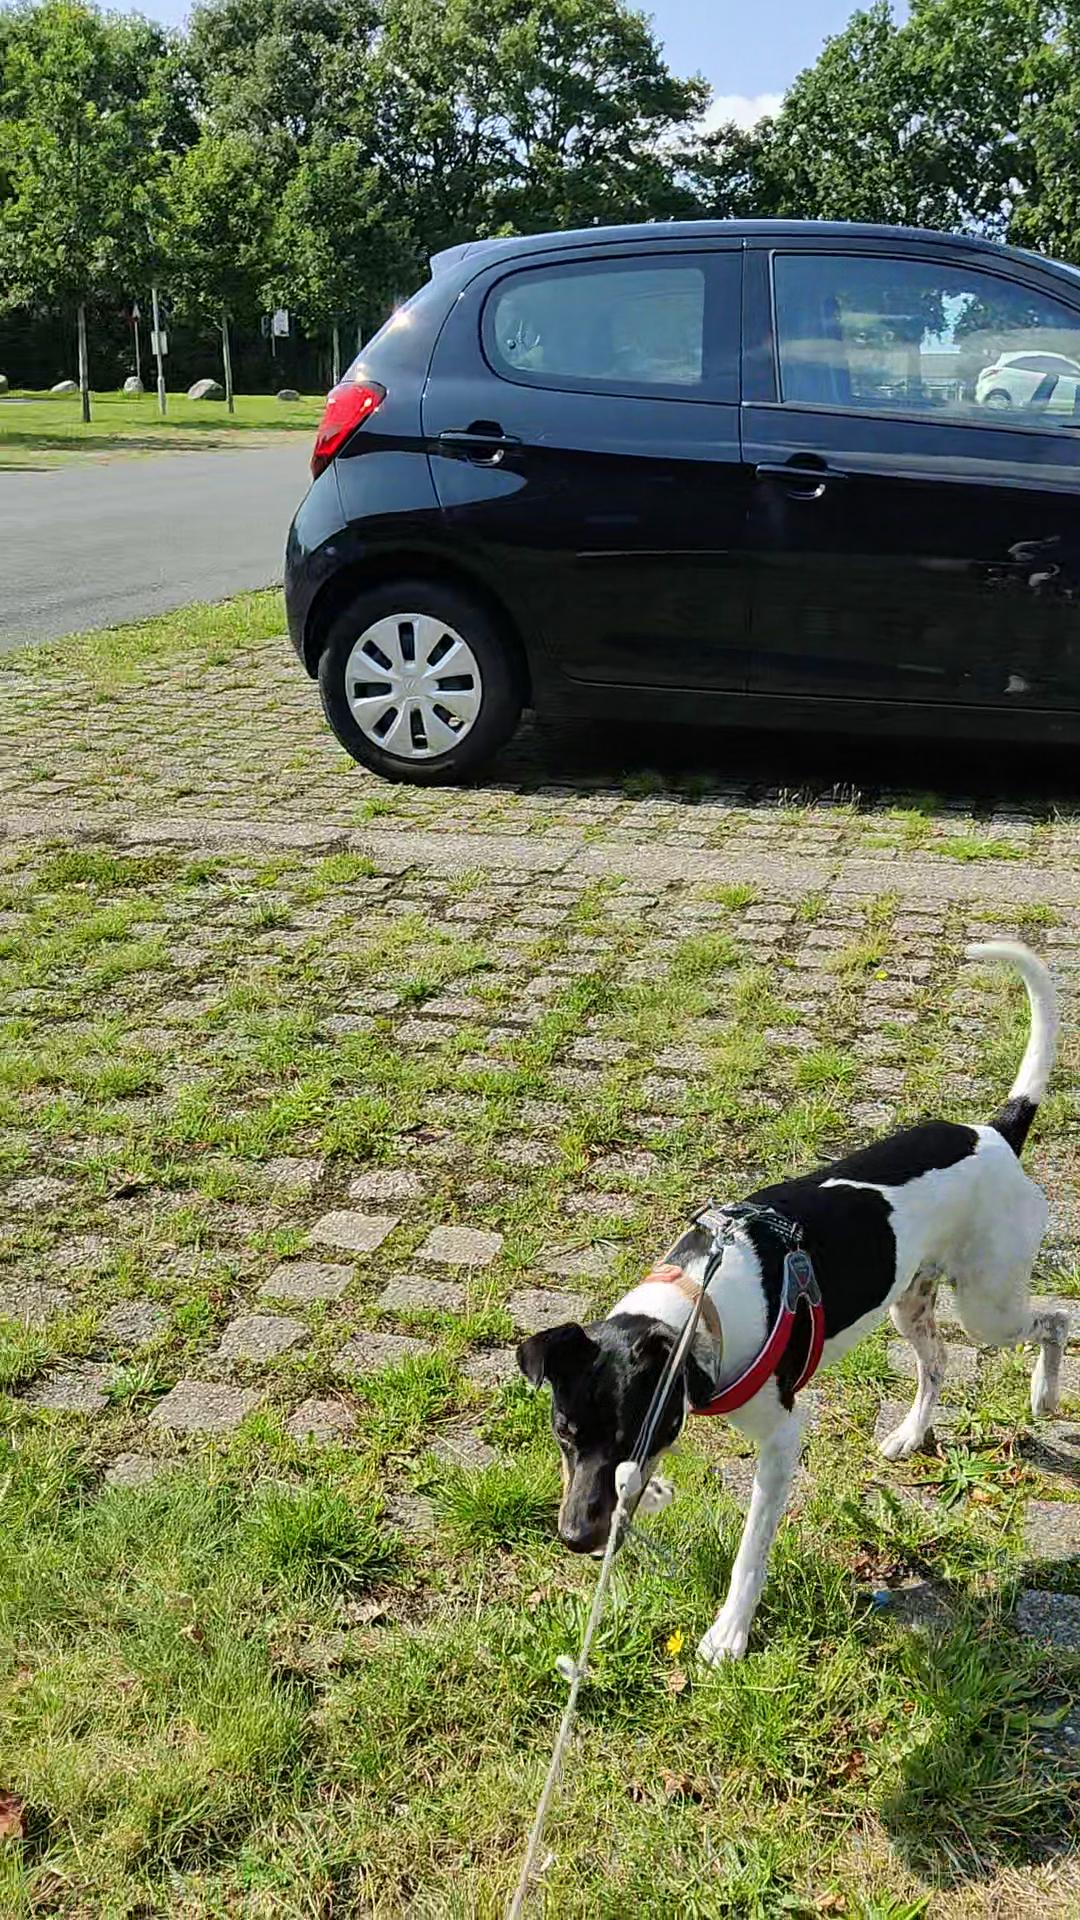Dog: (495, 910, 1079, 1676)
